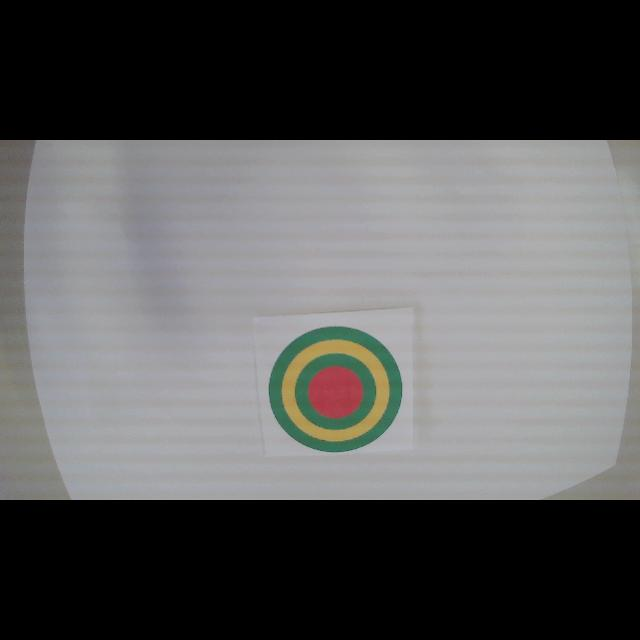COGNITIVE: (268, 325, 402, 453)
